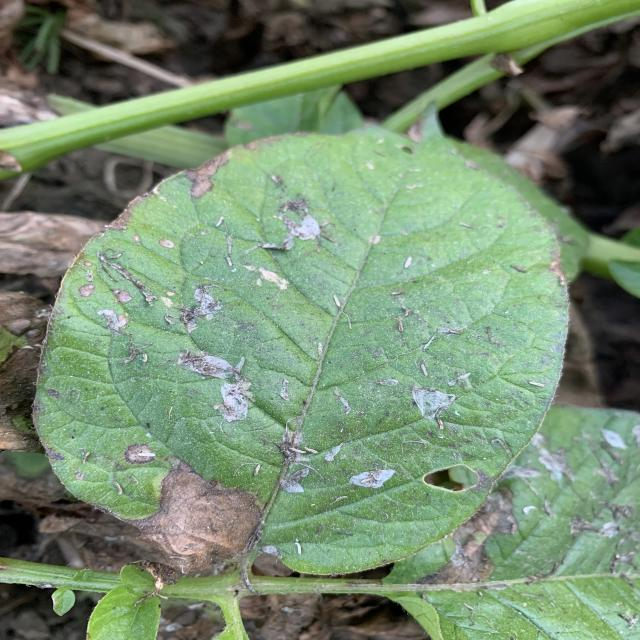lateblight: (128, 461, 262, 572), (177, 350, 250, 422), (262, 199, 322, 250), (185, 151, 228, 199), (412, 388, 455, 430), (350, 470, 395, 489)
